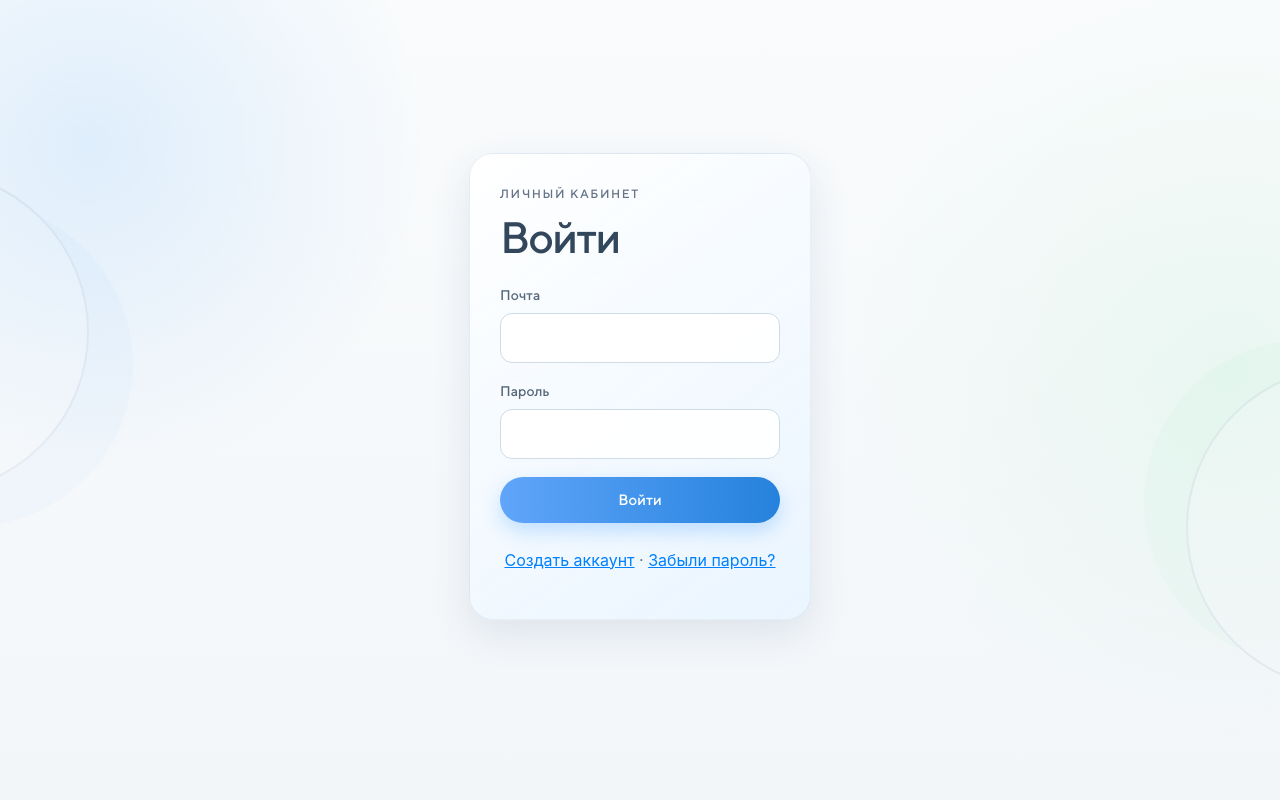
Scenario: LoginPage › shows the backend error and does not navigate
The image size is (1280, 800).
Type "a@example.com" into the field labelled "Почта".
click(640, 338); type("a@example.com")  # box [500, 313, 780, 363]
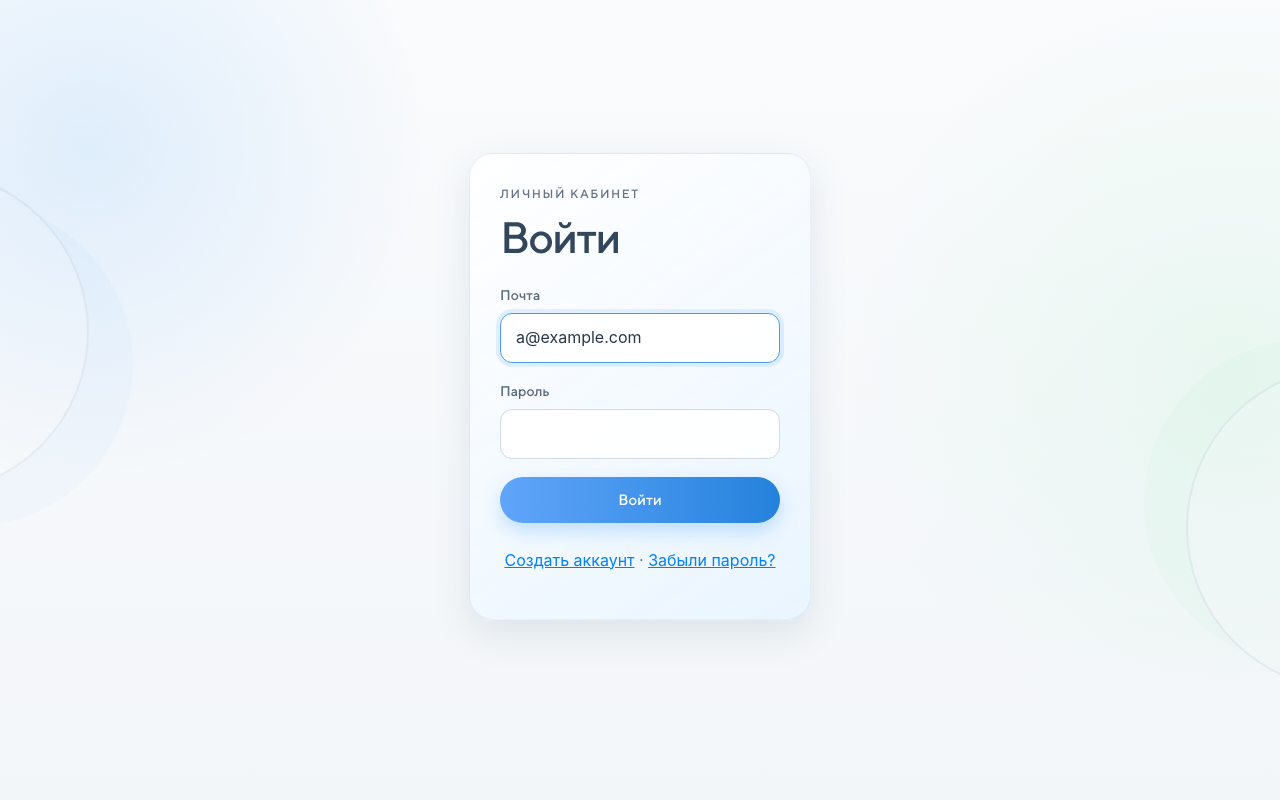
Type "secret1" into the password field labelled "Пароль".
click(640, 434); type("secret1")  # box [500, 409, 780, 458]
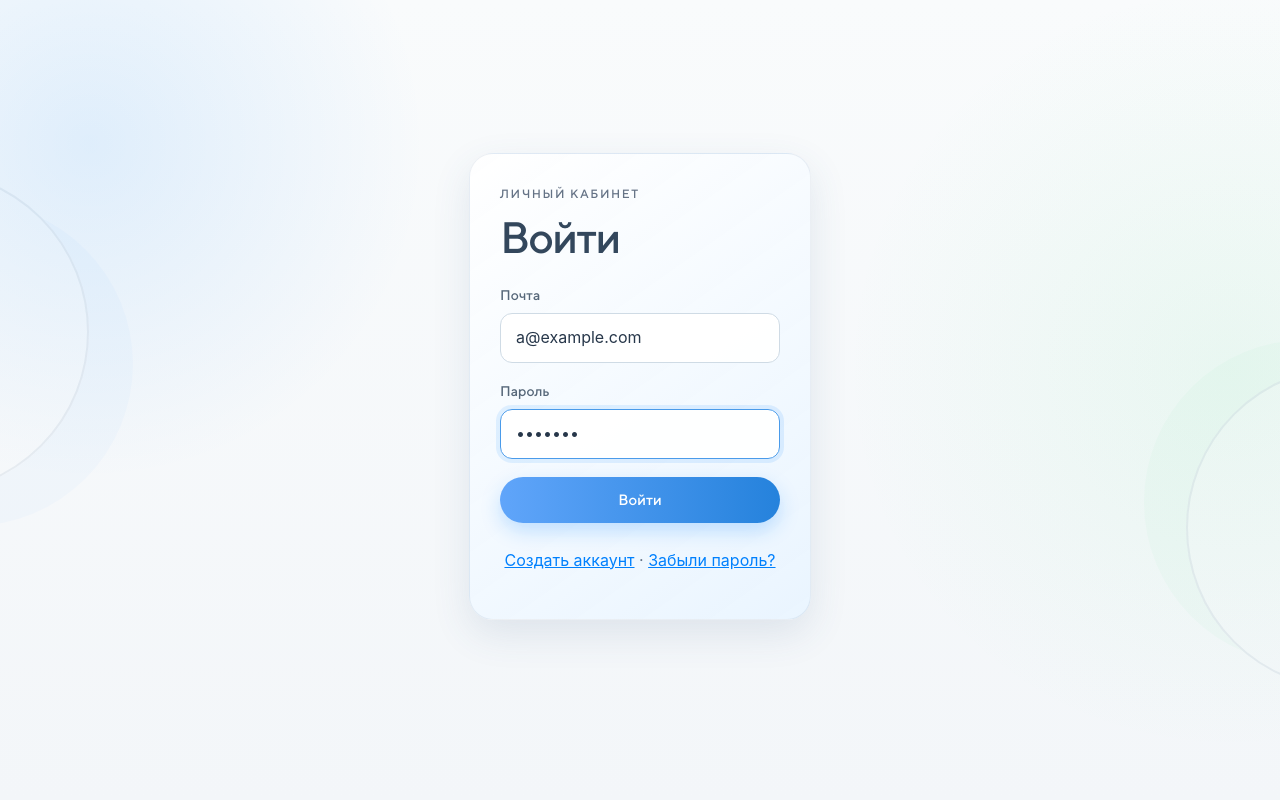
Click the button "Войти".
click(640, 500)  # box [500, 476, 780, 522]
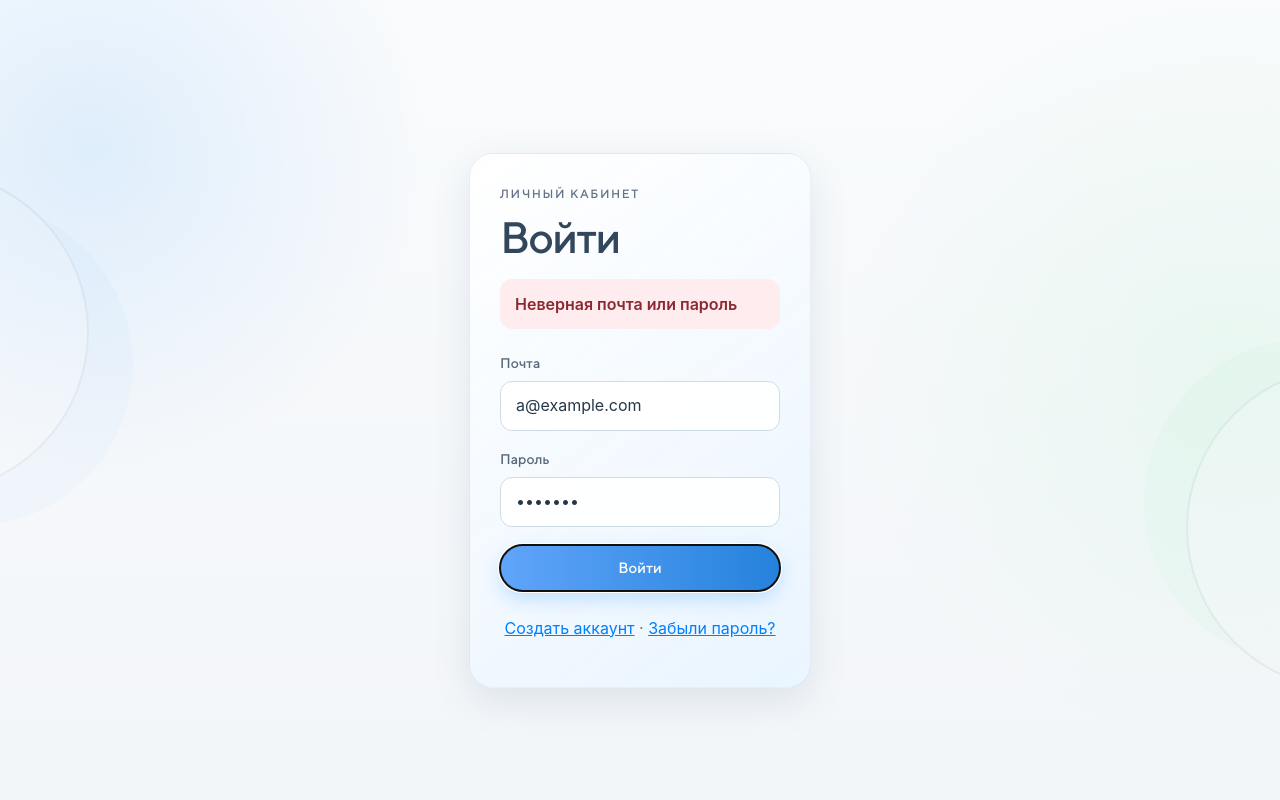
Expected: the message reads "Неверная почта или пароль", [515, 294, 737, 314]
